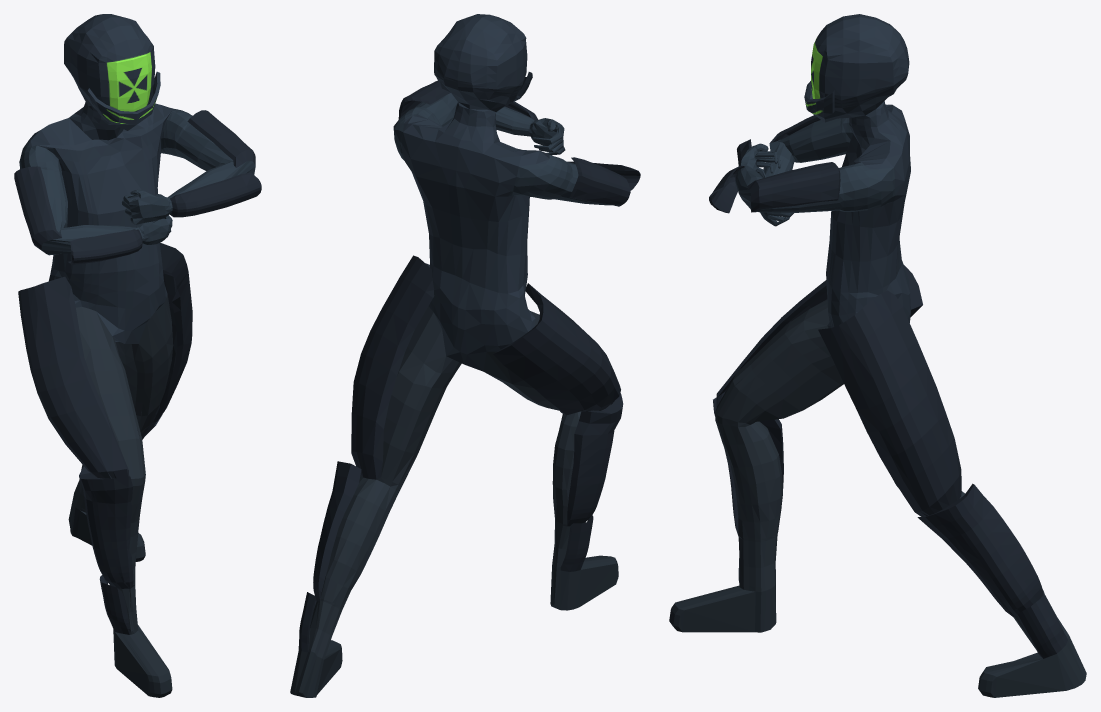
The model's file is Bastion_WR_000015.obj.
The picture shows the model from 3 angles, left to right: view 1: azimuth 30°, elevation 25°; view 2: azimuth 150°, elevation 25°; view 3: azimuth 270°, elevation 25°; orthographic projection. The views are drawn at different scales.
Visible parts, largest first — view 1: Cube.002; view 2: Cube.002; view 3: Cube.002.
Boxes of the visible parts, left/top/right/bottom form: Cube.002: left=14, top=14, right=261, bottom=697; Cube.002: left=290, top=14, right=640, bottom=697; Cube.002: left=669, top=14, right=1086, bottom=697.
Size of the model in its own units: 1.31 by 3.6 by 2.15.
